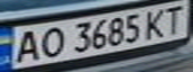3: (69, 19, 93, 53)
5: (121, 11, 148, 43)
6: (90, 16, 112, 51)
8: (106, 14, 130, 47)
A: (9, 27, 45, 64)
K: (139, 6, 172, 39)
O: (33, 25, 66, 58)
T: (160, 2, 190, 35)
